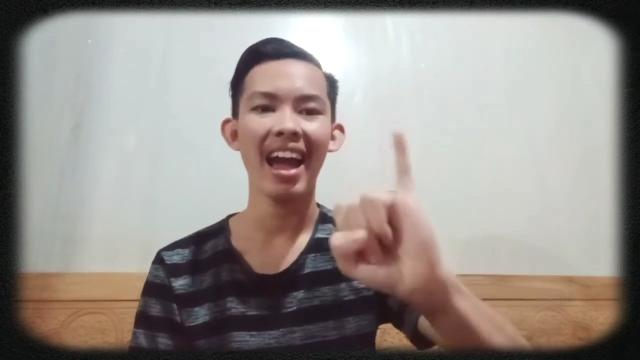I: (330, 131, 448, 297)
